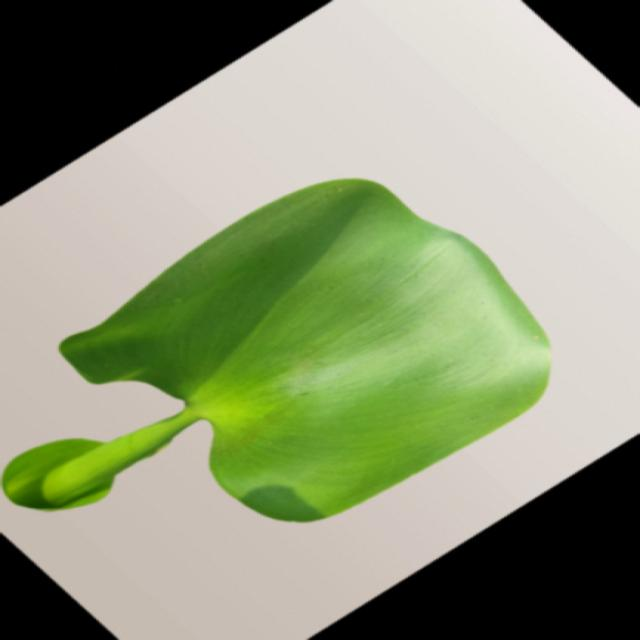daun sehat: (4, 179, 548, 521)
